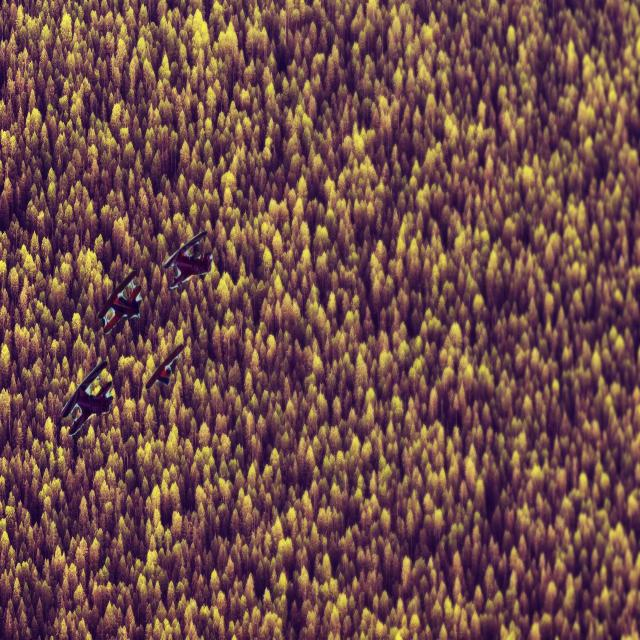airplane: (60, 358, 114, 436), (162, 229, 213, 291), (97, 270, 142, 336), (145, 342, 184, 390)
